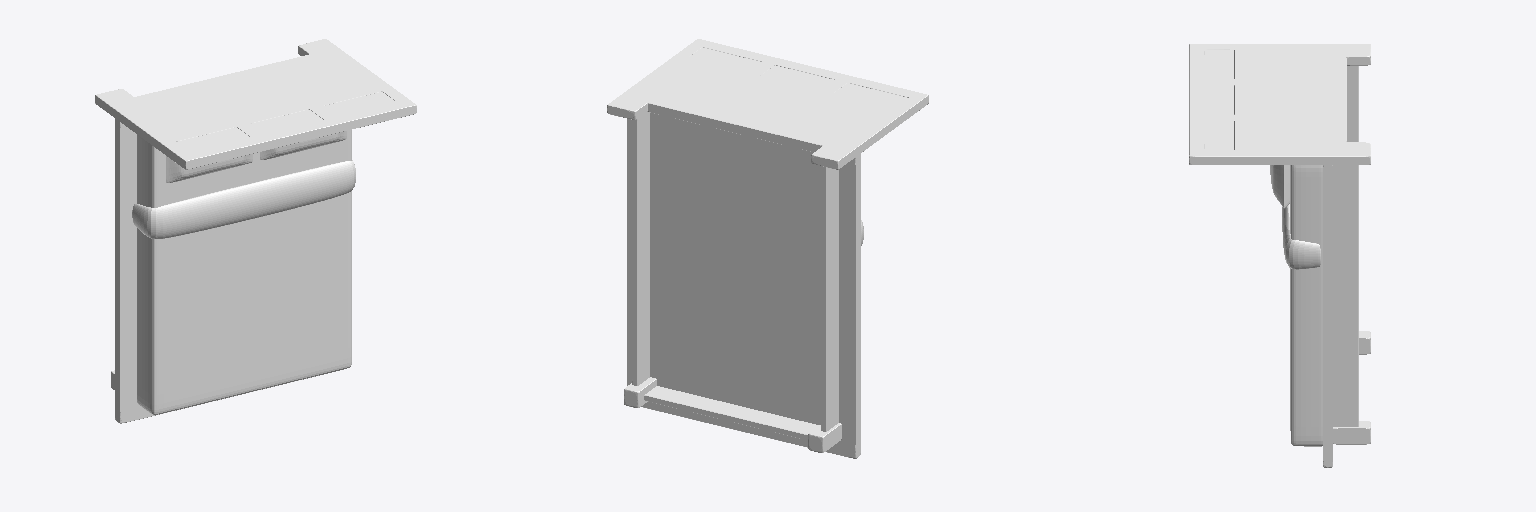
File: BED.obj
3 views of the same model, side by side, from view 1: azimuth 30°, elevation 25°; view 2: azimuth 150°, elevation 25°; view 3: azimuth 270°, elevation 25° (orthographic).
Parts seen in each view (by area): view 1: 10236_Master_Bed_King_Size_v1; view 2: 10236_Master_Bed_King_Size_v1; view 3: 10236_Master_Bed_King_Size_v1.
Boxes of the visible parts, <box> form: 10236_Master_Bed_King_Size_v1: <box>95,39,416,423</box>; 10236_Master_Bed_King_Size_v1: <box>607,39,928,458</box>; 10236_Master_Bed_King_Size_v1: <box>1189,44,1370,467</box>.
Size of the model in its own units: 175 by 226 by 119.